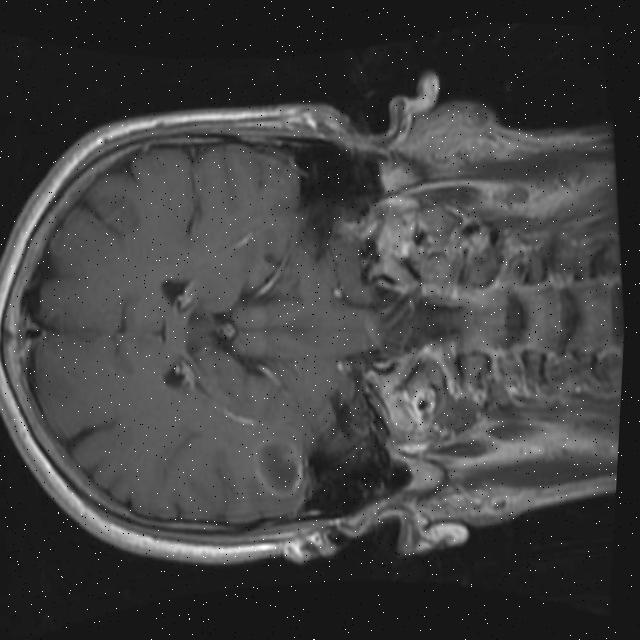Glioma: (249, 434, 308, 499)
